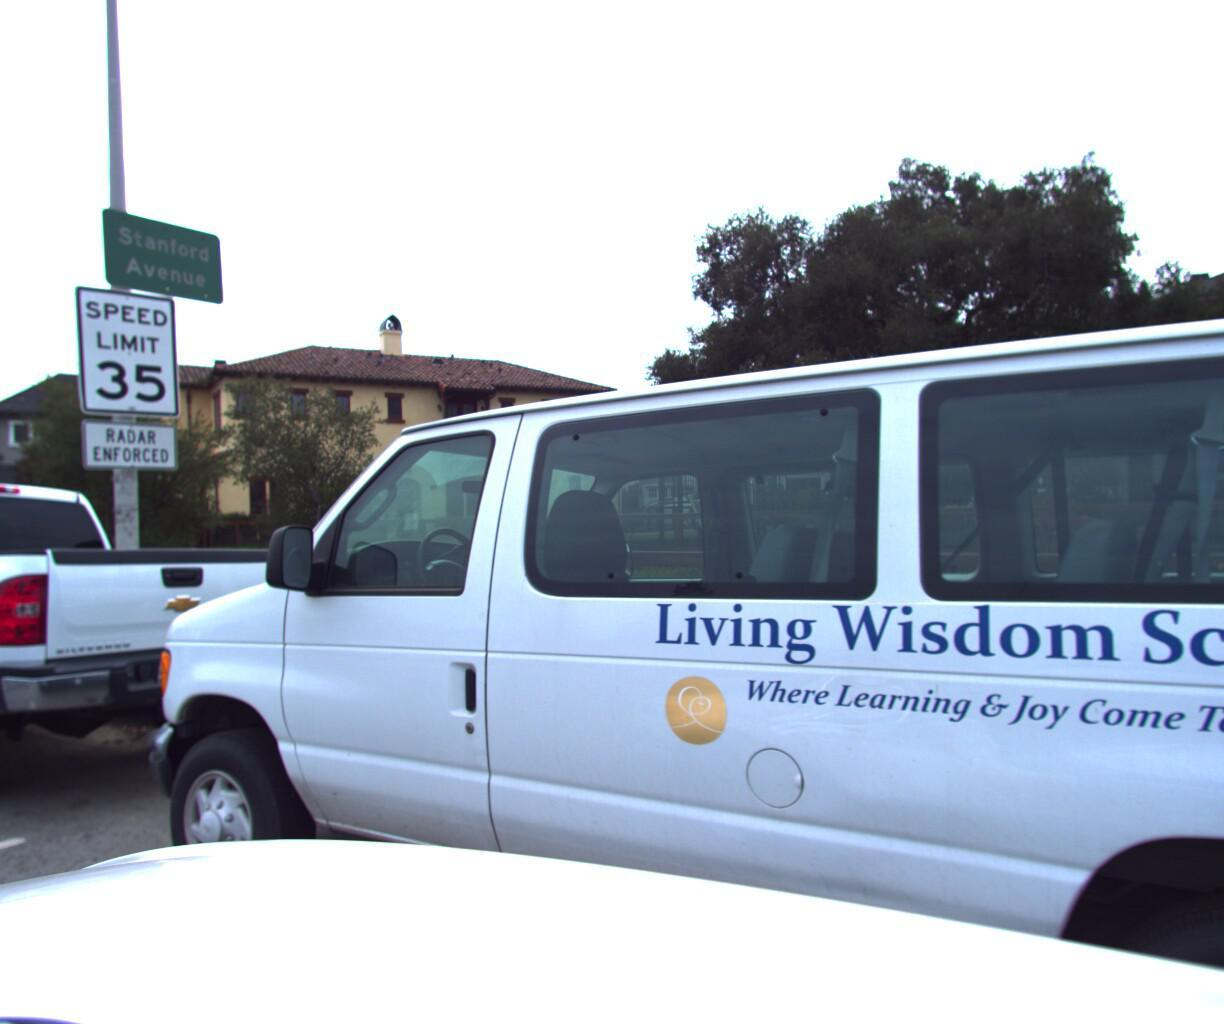car: (78, 92, 1224, 1024), (0, 458, 323, 856)
